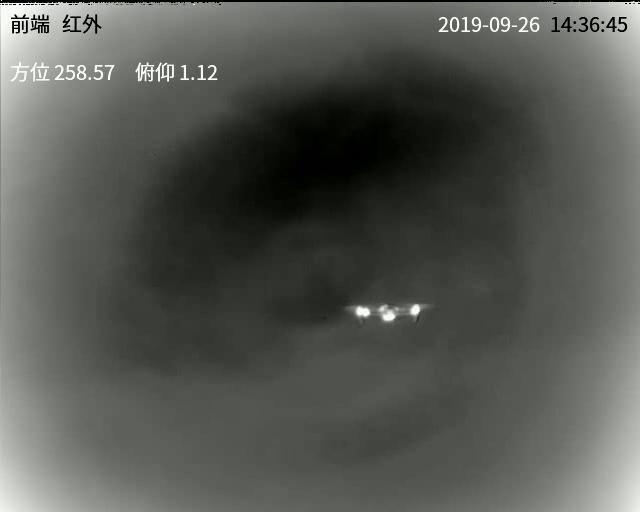DRONE: (354, 302, 423, 326)
